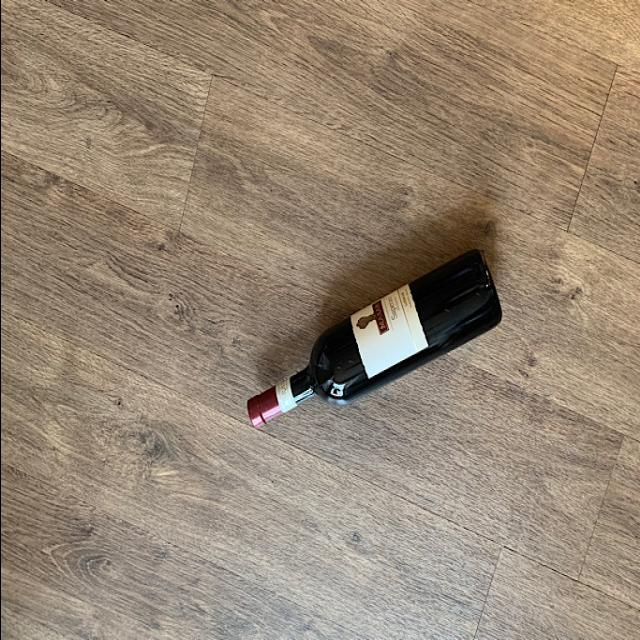litter: (242, 247, 502, 423)
